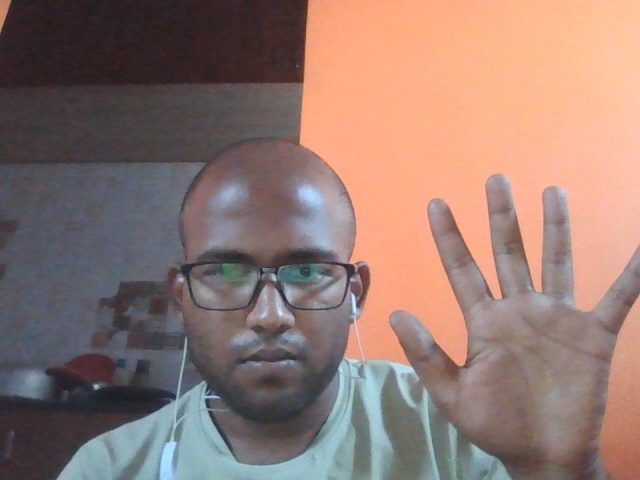hello: (379, 159, 640, 480)
